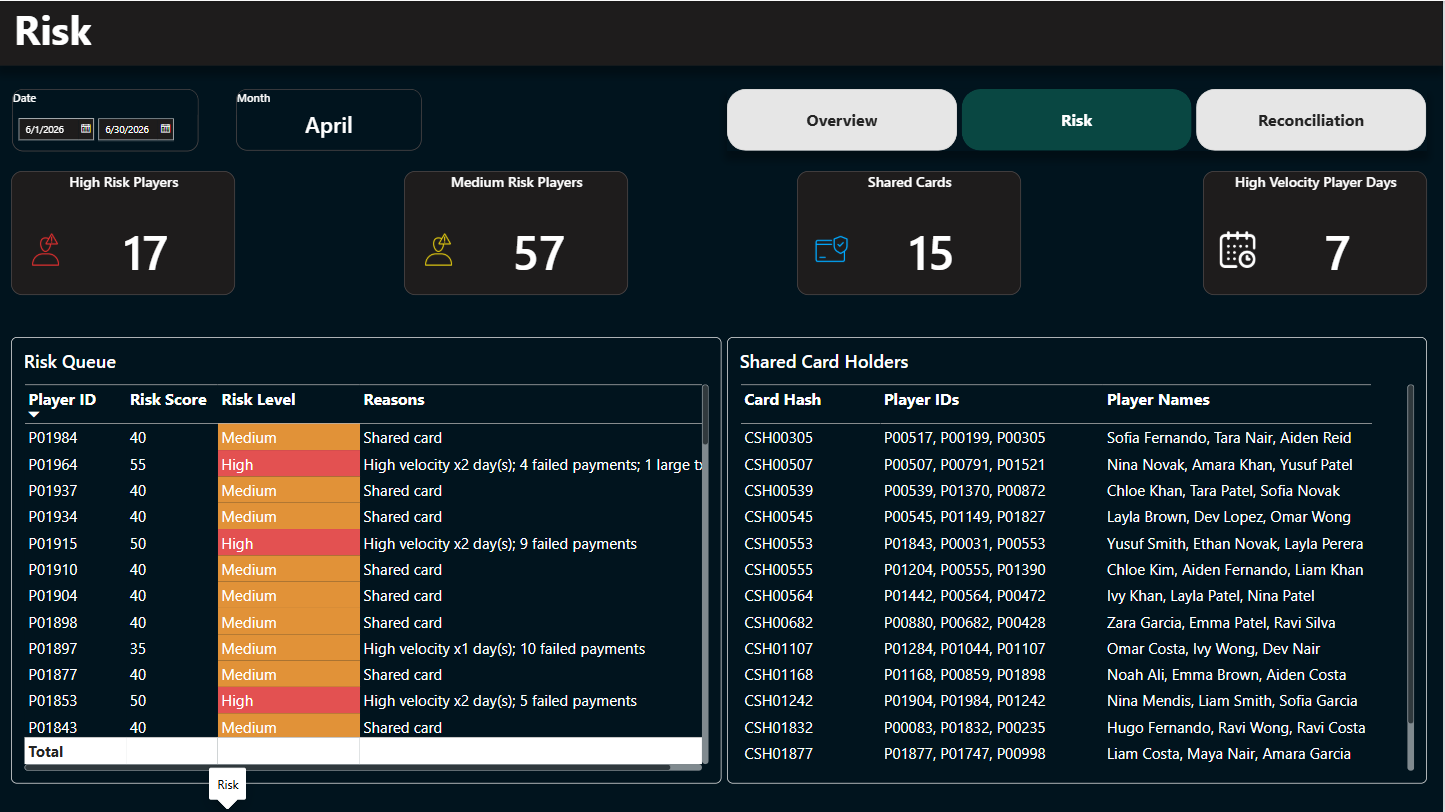

What the dashboard file says about the page in this screenshot:
{"tool":"powerbi","page":{"name":"Risk","canvas":[1920,1080],"ordinal":1},"visuals":[{"type":"shape","box":[0,0,1920,86.1],"z":0},{"type":"slicer","title":"Date","fields":{"Values":["DateTable.Date"]},"box":[17.1,117.1,248,83.2],"z":1000},{"type":"cardVisual","title":"Month","fields":{"Data":["Min(DateTable.Date.Variation.Date Hierarchy.Month)"]},"box":[315.7,117.6,247.1,82.4],"z":2000},{"type":"pageNavigator","box":[968.6,117.6,931.4,82.4],"z":3000},{"type":"cardVisual","title":"High Risk Players","fields":{"Data":["Payments.High Risk Players"]},"box":[15.7,225.5,298,164.7],"z":4000},{"type":"cardVisual","title":"Medium Risk Players","fields":{"Data":["Payments.Medium Risk Players"]},"box":[539.2,225.5,298,164.7],"z":5000},{"type":"cardVisual","title":"Shared Cards","fields":{"Data":["Payments.Shared Cards"]},"box":[1060.8,225.5,298,164.7],"z":6000},{"type":"cardVisual","title":"High Velocity Player Days","fields":{"Data":["Payments.High Velocity Player-Days"]},"box":[1602,225.5,298,164.7],"z":7000},{"type":"tableEx","title":"Risk Queue","fields":{"Values":["Risk_Queue.player_id","Risk_Queue.risk_score","Risk_Queue.risk_level","Risk_Queue.reasons"]},"box":[15.7,447.1,945.1,594.1],"z":8000},{"type":"tableEx","title":"Shared Card Holders","fields":{"Values":["Shared_Cards.card_hash","Shared_Cards.player_ids","Shared_Cards.Player Names"]},"box":[968.6,447.1,931.4,594.1],"z":9000}]}

Visuals, with their boxes in screenshot pixels (x1, y1, x2, y2), scaled from the page's 1920x1080 canvas onto the 1445x812 screenshot:
shape: crop(0, 0, 1444, 65)
"Date" slicer: crop(13, 88, 200, 151)
"Month" cardVisual: crop(238, 88, 424, 150)
pageNavigator: crop(729, 88, 1430, 150)
"High Risk Players" cardVisual: crop(12, 170, 236, 293)
"Medium Risk Players" cardVisual: crop(406, 170, 630, 293)
"Shared Cards" cardVisual: crop(798, 170, 1023, 293)
"High Velocity Player Days" cardVisual: crop(1206, 170, 1430, 293)
"Risk Queue" tableEx: crop(12, 336, 723, 783)
"Shared Card Holders" tableEx: crop(729, 336, 1430, 783)
